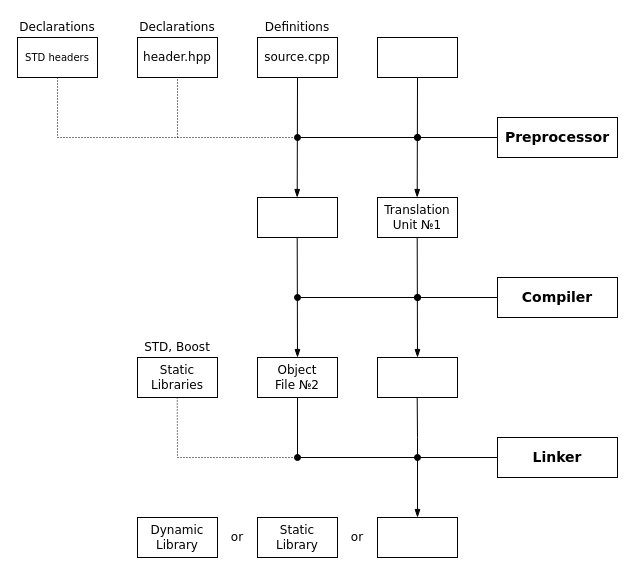
Image size: 635x575. Some labels were removed from this diagram. The shapes that lost their labels are listed below. From the top down, each one's centre as x and y in pixels, then its label:
At point 417,57: "main.cpp".
At point 297,217: "Translation Unit №2".
At point 417,377: "Object File №1".
At point 417,537: "Executable".
